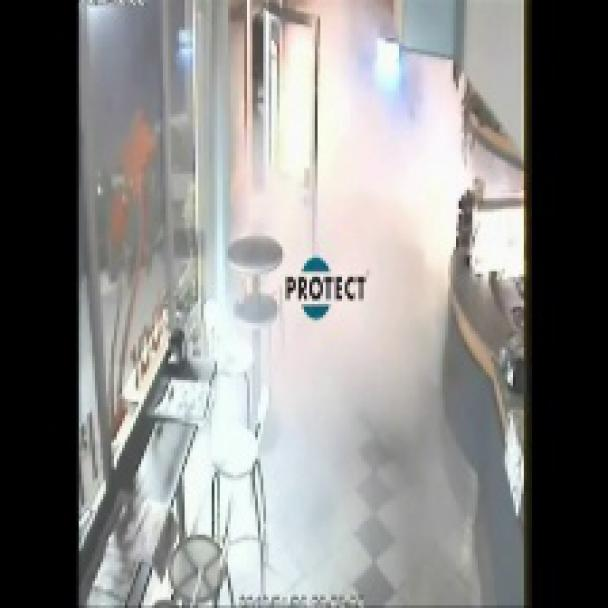smoke: (202, 44, 508, 506)
